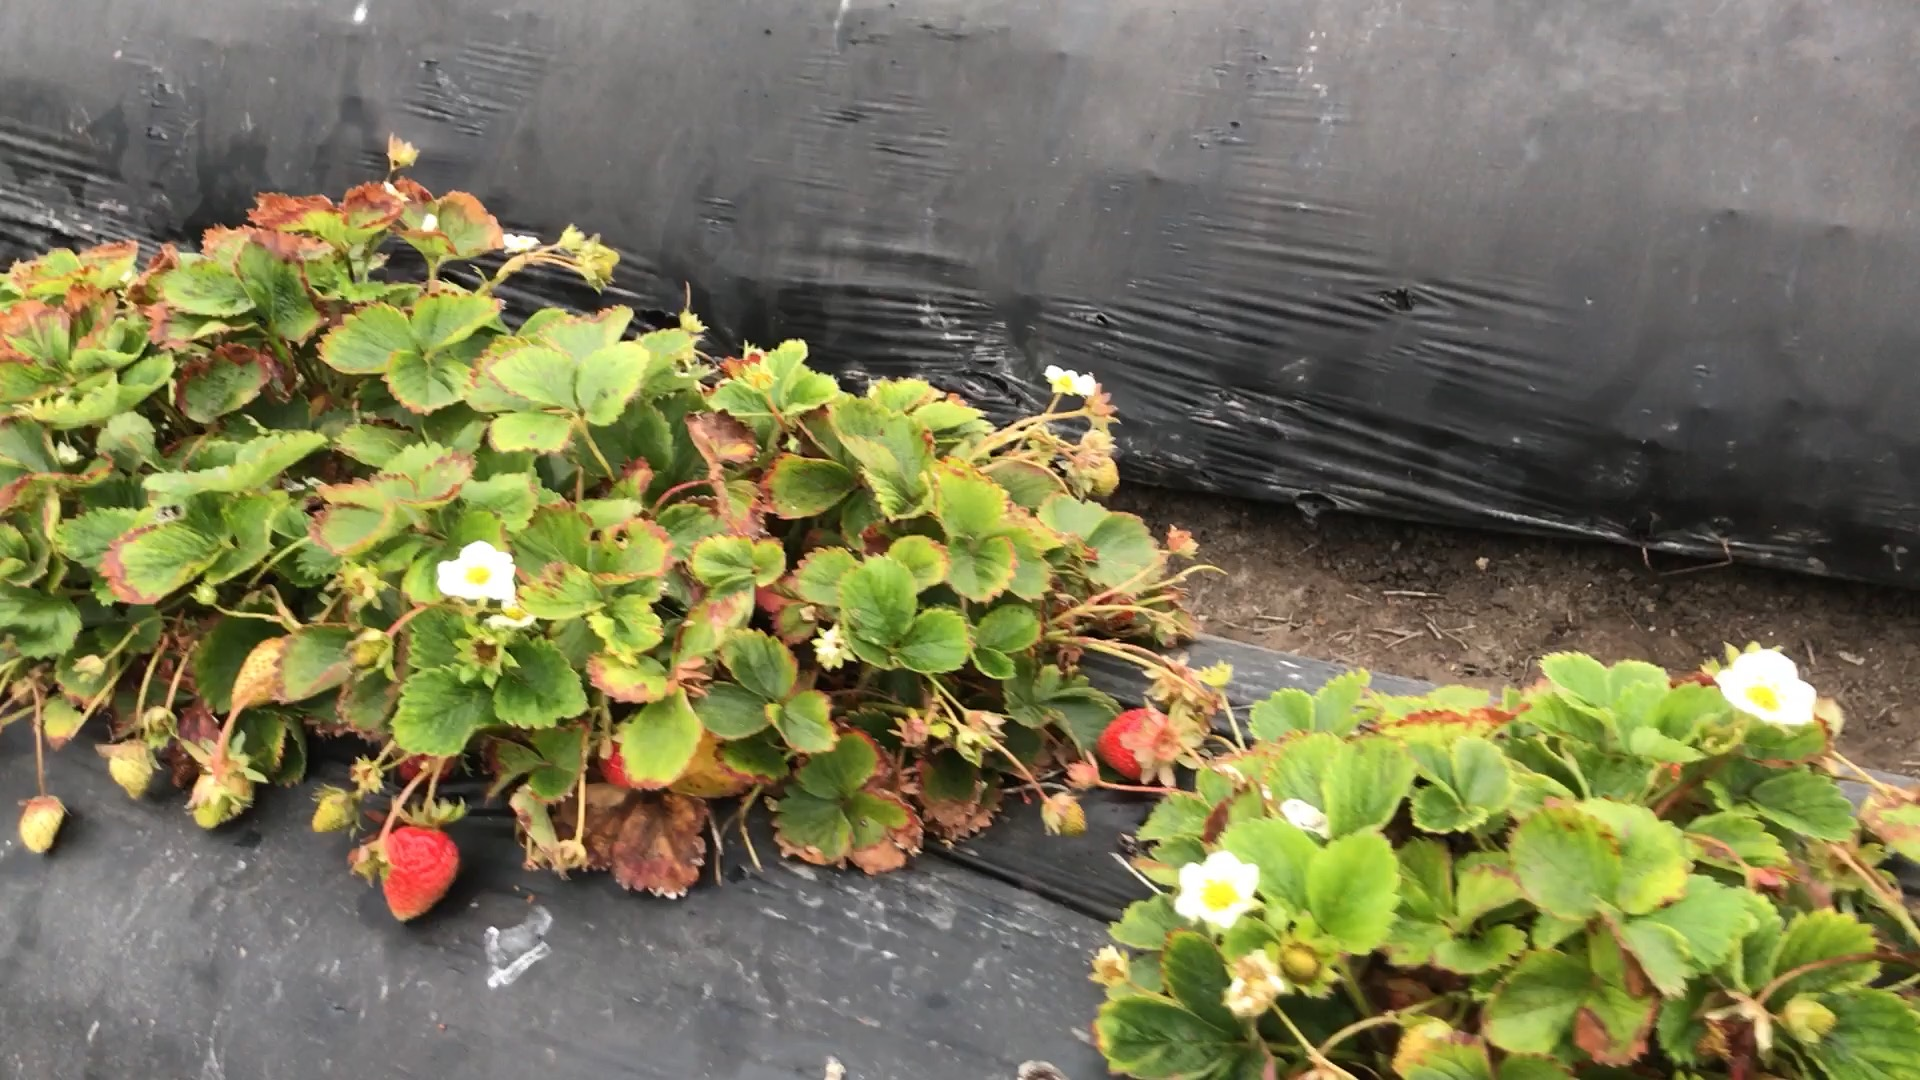ripe_strawberry: (378, 804, 468, 934), (1091, 702, 1189, 785)
unripe_strawberry: (17, 789, 69, 858), (109, 738, 162, 803), (305, 791, 361, 837), (193, 770, 233, 831), (1274, 939, 1325, 982), (352, 632, 390, 671)
